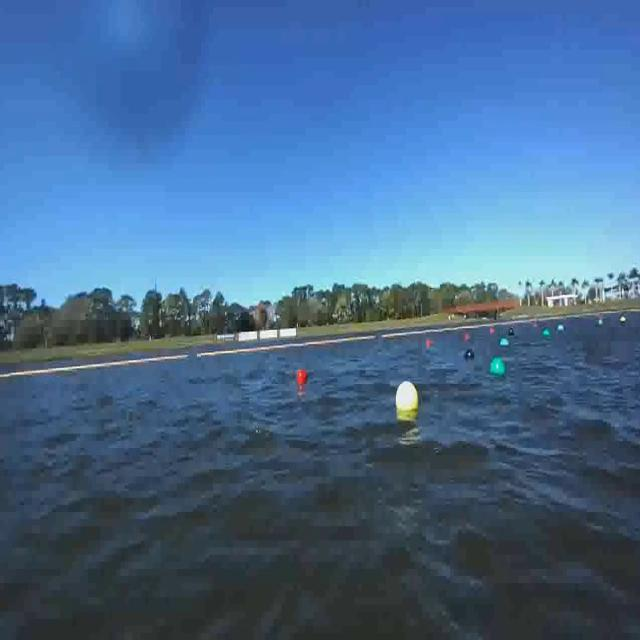black-buoy: (464, 349, 475, 360)
green-buoy: (490, 356, 506, 377)
red-buoy: (297, 370, 306, 386)
yellow-buoy: (397, 381, 420, 416)
